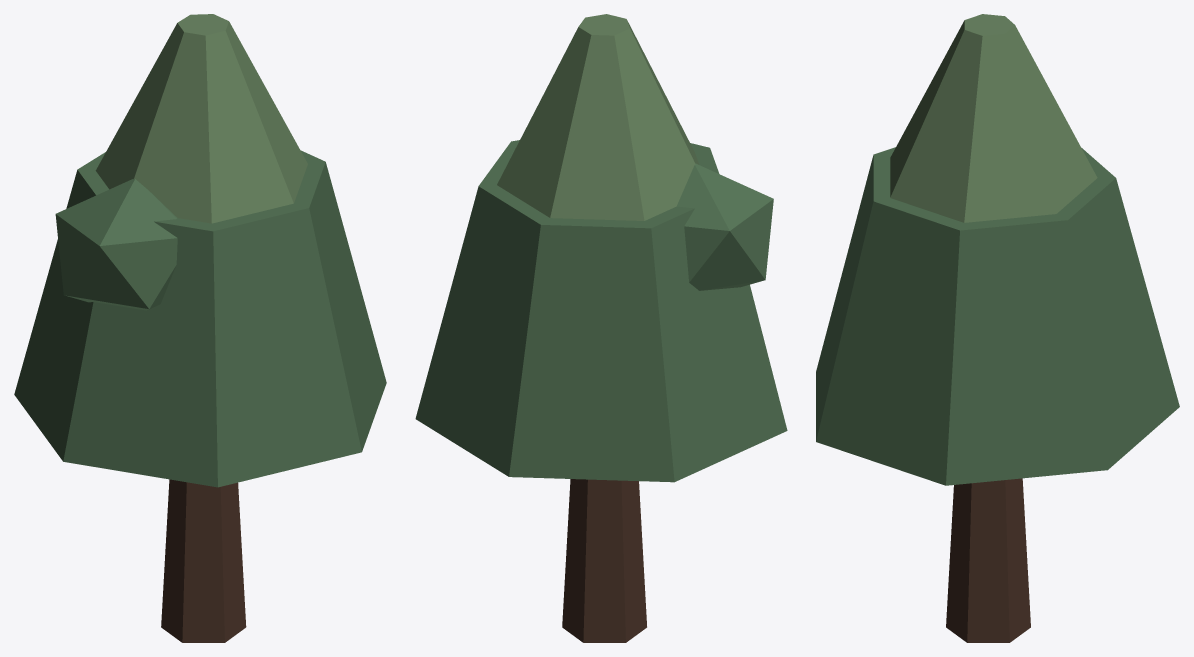
The model's file is prop_tree_03.glb.
3 renders of one model, left to right at view 1: azimuth 30°, elevation 25°; view 2: azimuth 150°, elevation 25°; view 3: azimuth 270°, elevation 25°, orthographic.
Parts seen in each view (by area): view 1: CrownLower.002, CrownUpper.002, CrownAccent, Trunk.002; view 2: CrownLower.002, CrownUpper.002, Trunk.002, CrownAccent; view 3: CrownLower.002, CrownUpper.002, Trunk.002.
Part boxes in pixels (x1,y1,x2,y2): CrownLower.002: (14, 150, 386, 487); CrownUpper.002: (95, 14, 307, 223); CrownAccent: (55, 179, 177, 310); Trunk.002: (161, 479, 246, 642); CrownLower.002: (415, 140, 787, 482); CrownUpper.002: (497, 14, 699, 220); Trunk.002: (562, 479, 646, 642); CrownAccent: (676, 163, 773, 290); CrownLower.002: (816, 147, 1179, 485); CrownUpper.002: (890, 14, 1097, 222); Trunk.002: (946, 478, 1030, 642).
Bounding box in the file's own units: 1.4 × 2.5 × 1.37.
